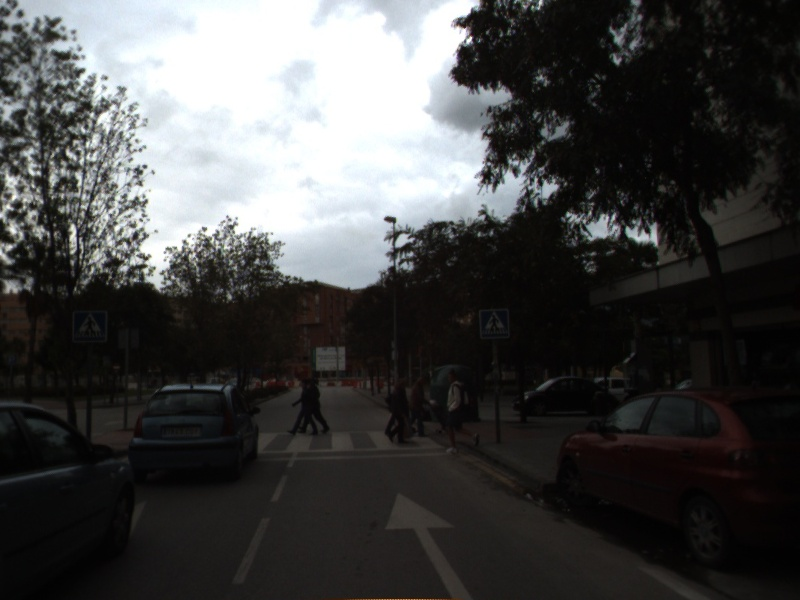STRAIGHT: (383, 489, 471, 600)
